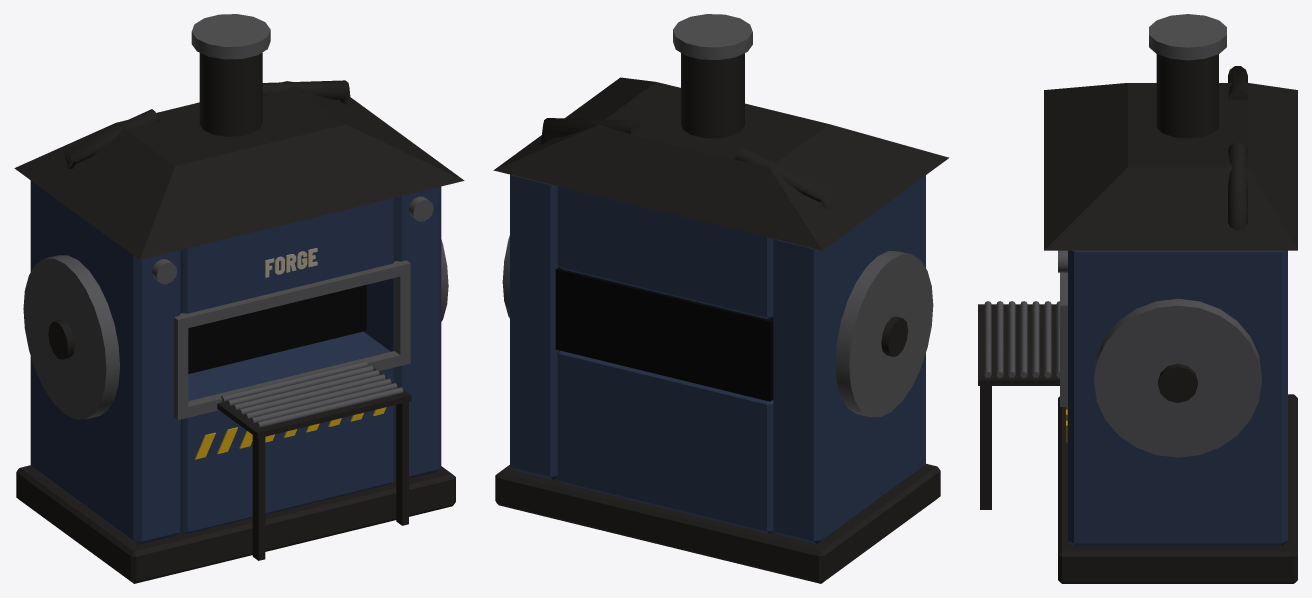
Rendered from forge.gltf.
The picture shows the model from 3 angles, left to right: view 1: azimuth 30°, elevation 25°; view 2: azimuth 150°, elevation 25°; view 3: azimuth 270°, elevation 25°; orthographic projection.
Parts seen in each view (by area): view 1: forge; view 2: forge; view 3: forge.
Boxes of the visible parts, bbox=[...] form: forge: bbox=[14, 14, 464, 583]; forge: bbox=[493, 14, 949, 583]; forge: bbox=[978, 14, 1297, 583].
Bounding box in the file's own units: 2.08 × 2.62 × 1.6.
